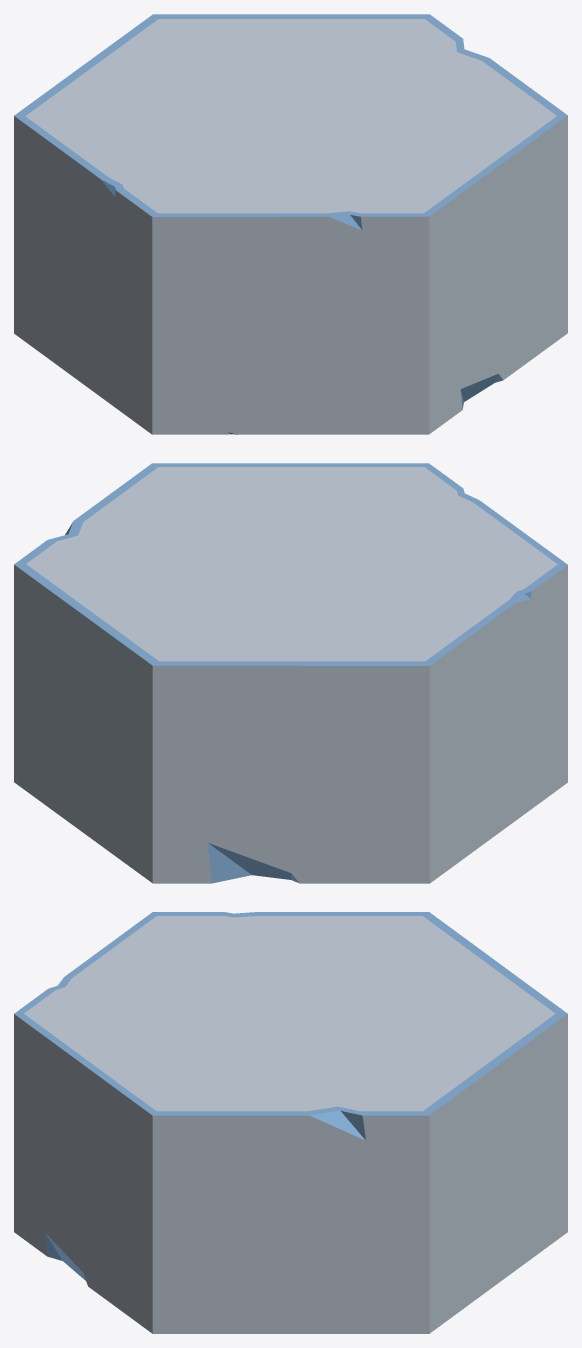
Rendered from hex_3.fbx.
3 views of the same model, one above another, from view 1: azimuth 30°, elevation 25°; view 2: azimuth 150°, elevation 25°; view 3: azimuth 270°, elevation 25° (orthographic).
Parts seen in each view (by area): view 1: Cylinder.148; view 2: Cylinder.148; view 3: Cylinder.148.
Boxes of the visible parts, left/top/right/bottom form: Cylinder.148: left=14, top=14, right=567, bottom=434; Cylinder.148: left=14, top=463, right=567, bottom=883; Cylinder.148: left=14, top=912, right=567, bottom=1333.
Size of the model in its own units: 99.9 by 50 by 115.
